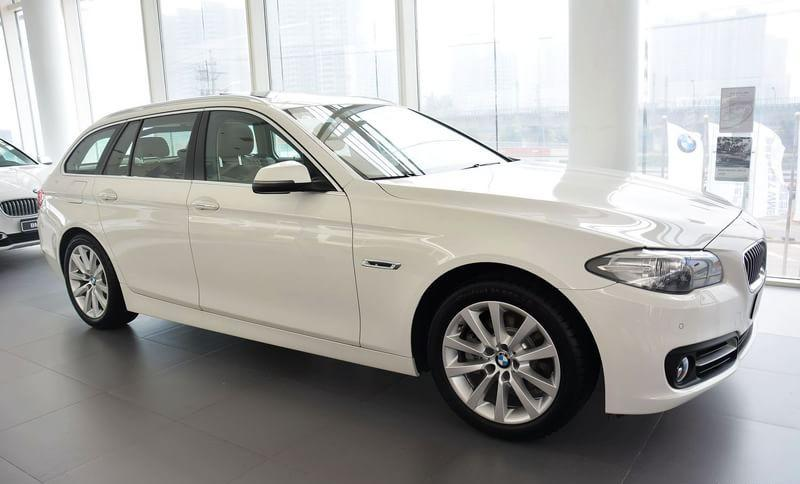Wagon: (36, 92, 769, 444)
